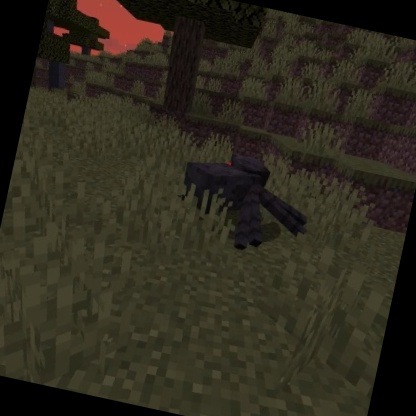spider: (168, 137, 321, 267)
